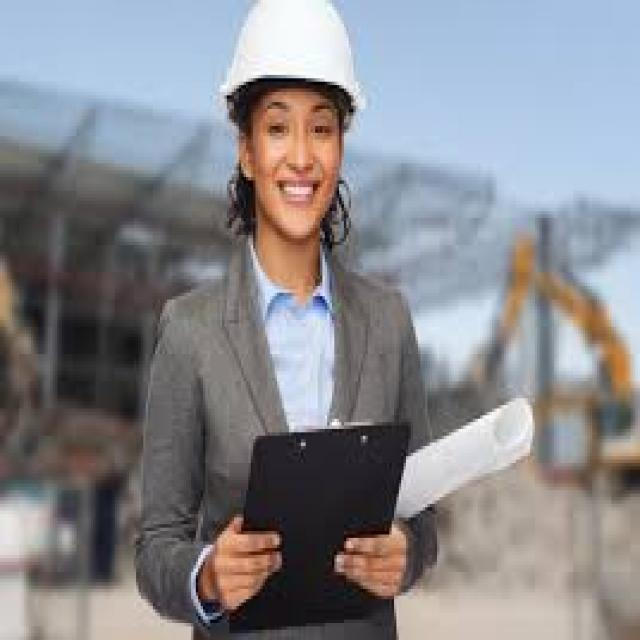No_Goggles: (254, 103, 339, 152)
